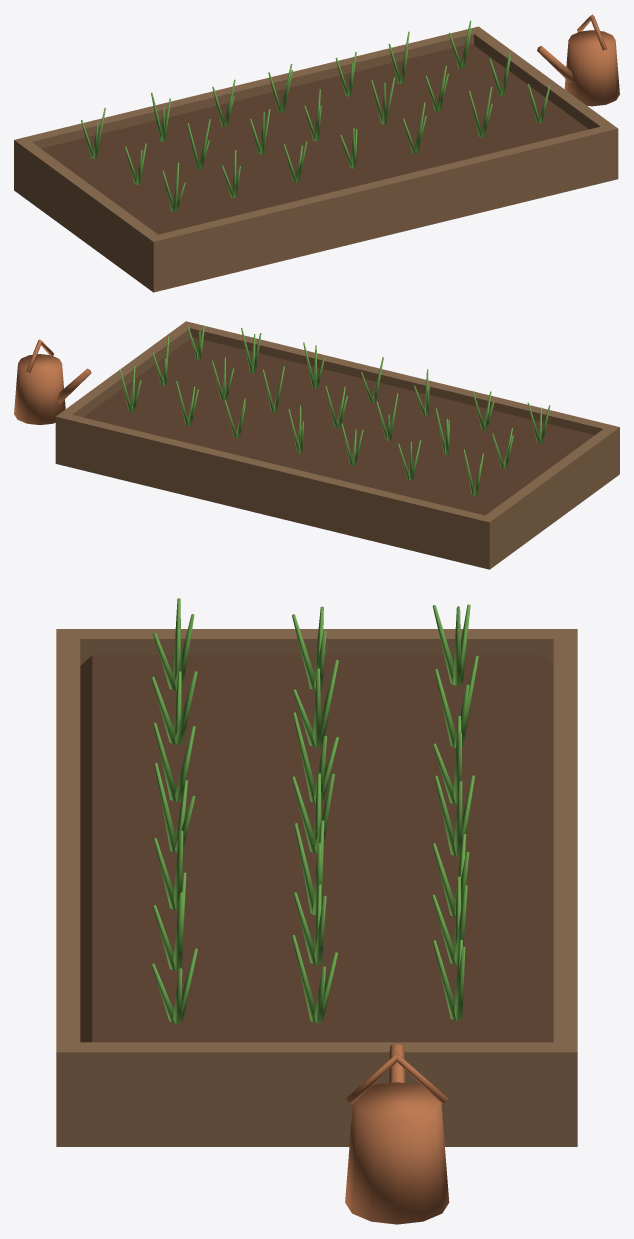
Rendered from garden_bed.glb.
3 renders of one model, top to bottom at view 1: azimuth 30°, elevation 25°; view 2: azimuth 150°, elevation 25°; view 3: azimuth 270°, elevation 25°, orthographic. The views are drawn at different scales.
Parts seen in each view (by area): view 1: garden_bed; view 2: garden_bed; view 3: garden_bed.
Part boxes in pixels (x1,y1,x2,y2): garden_bed: (14, 14, 619, 292); garden_bed: (14, 321, 619, 569); garden_bed: (56, 598, 577, 1224).
Size of what is drawn, in the model's own units: 2.98 by 0.4706 by 1.3.
